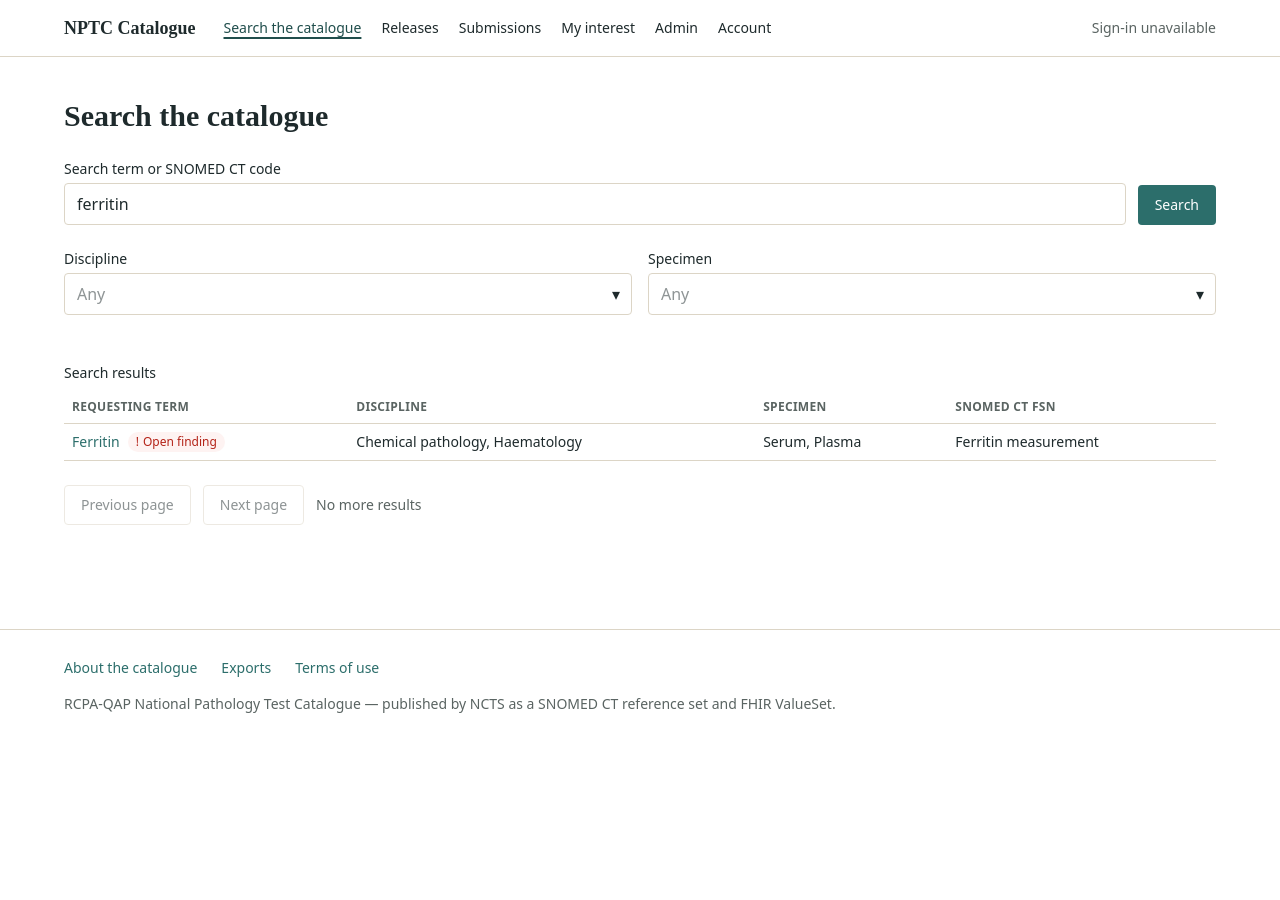
Test: CatalogueSearchPage › offers the same comboboxes while searching, with counts over the search
Click the dropdown labelled "Discipline" at (348, 294), box top-left (64, 272), bottom-right (632, 314)
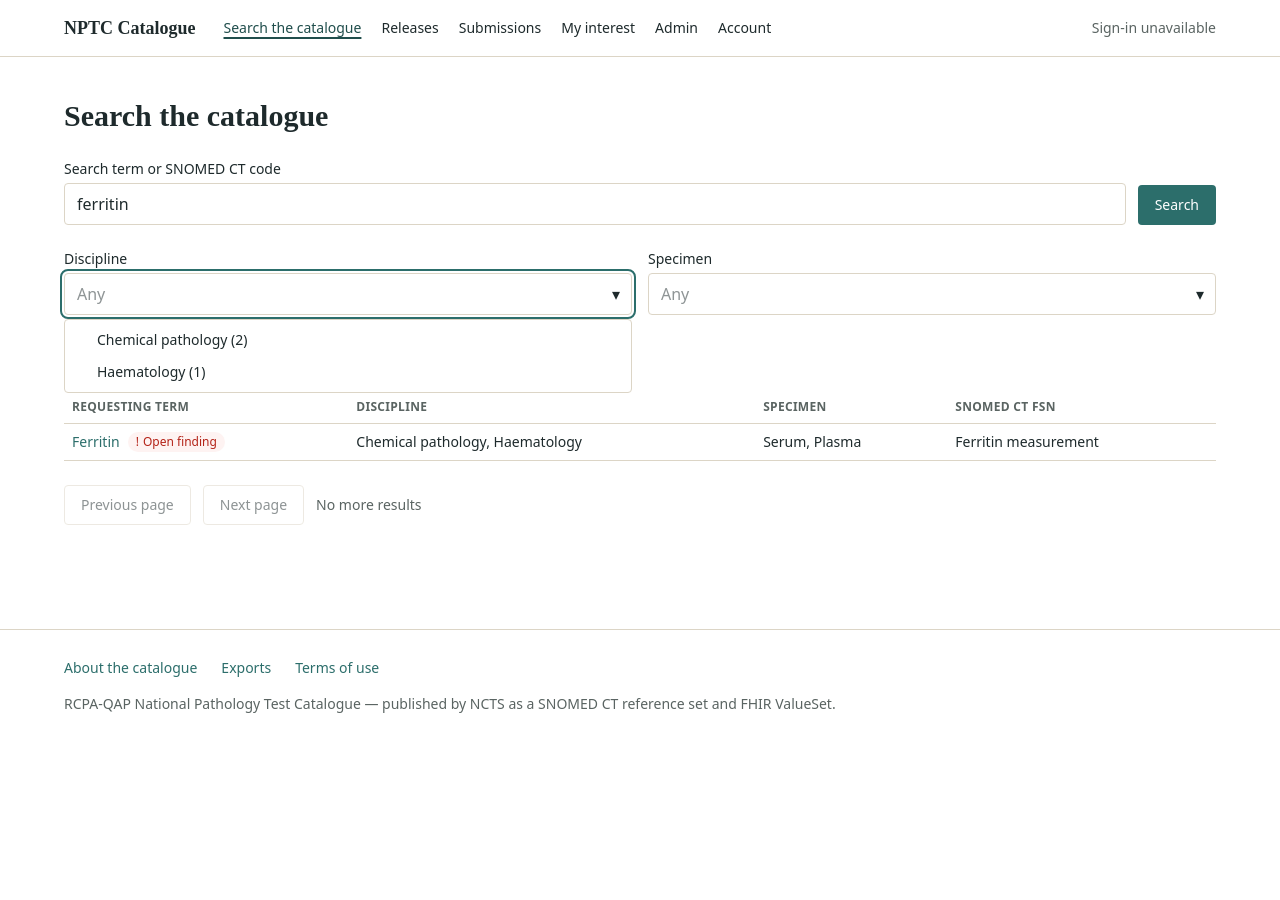
Check: the option "Chemical pathology (2)" is shown, box top-left (97, 330), bottom-right (248, 349)
